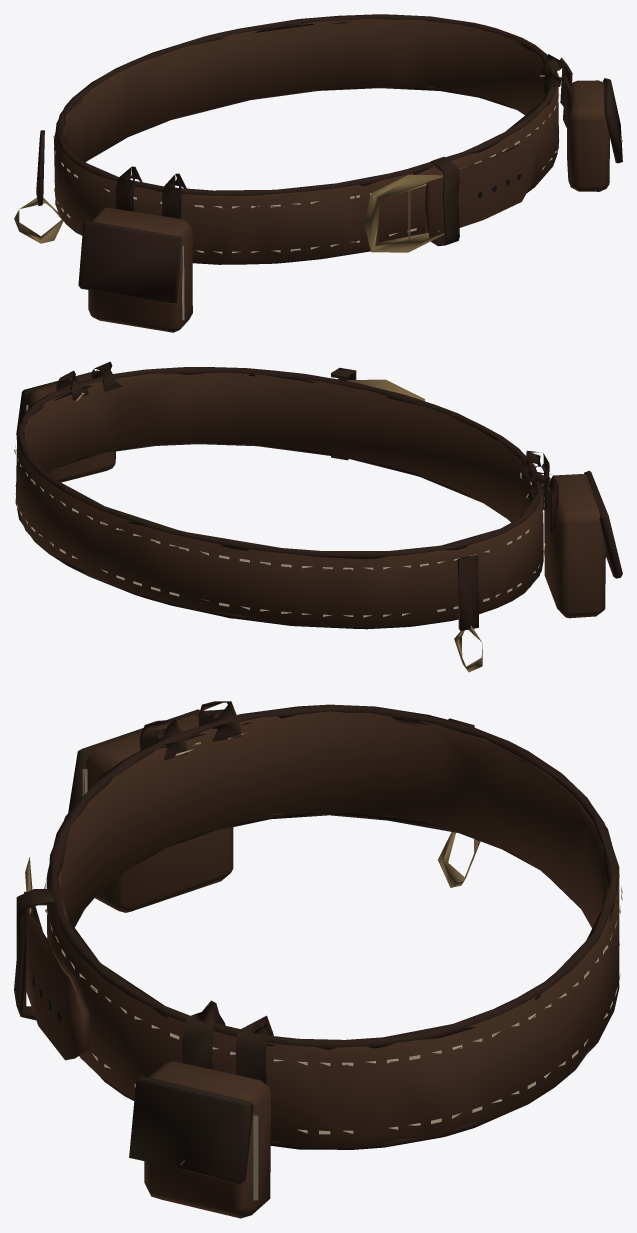
3 renders of one model, top to bottom at view 1: azimuth 30°, elevation 25°; view 2: azimuth 150°, elevation 25°; view 3: azimuth 270°, elevation 25°, orthographic. The views are drawn at different scales.
Visible parts, largest first — view 1: tanned leather, aged alloy edge; view 2: tanned leather, aged alloy edge; view 3: tanned leather, aged alloy edge.
Part boxes in pixels (bbox=[...]): tanned leather: bbox=[36, 14, 622, 332]; aged alloy edge: bbox=[14, 138, 622, 252]; tanned leather: bbox=[14, 361, 622, 630]; aged alloy edge: bbox=[347, 379, 482, 672]; tanned leather: bbox=[14, 701, 622, 1218]; aged alloy edge: bbox=[24, 832, 480, 1165].
Bounding box in the file's own units: 0.4564 × 0.1047 × 0.2869.
